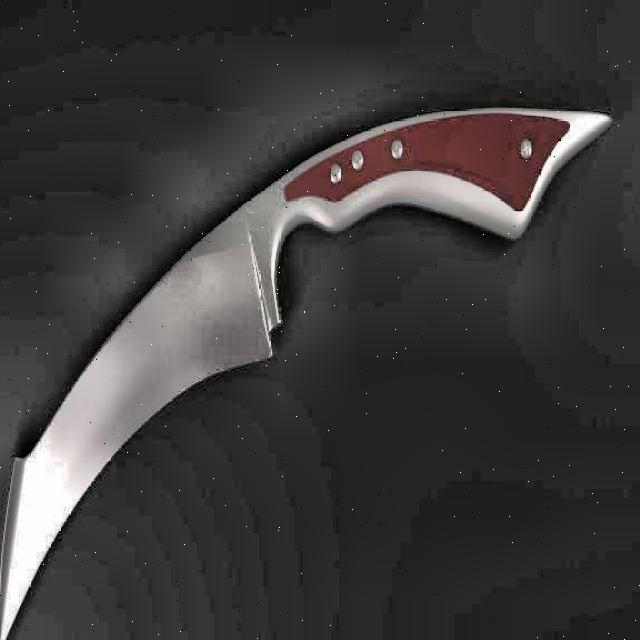knife: (0, 96, 619, 640)
